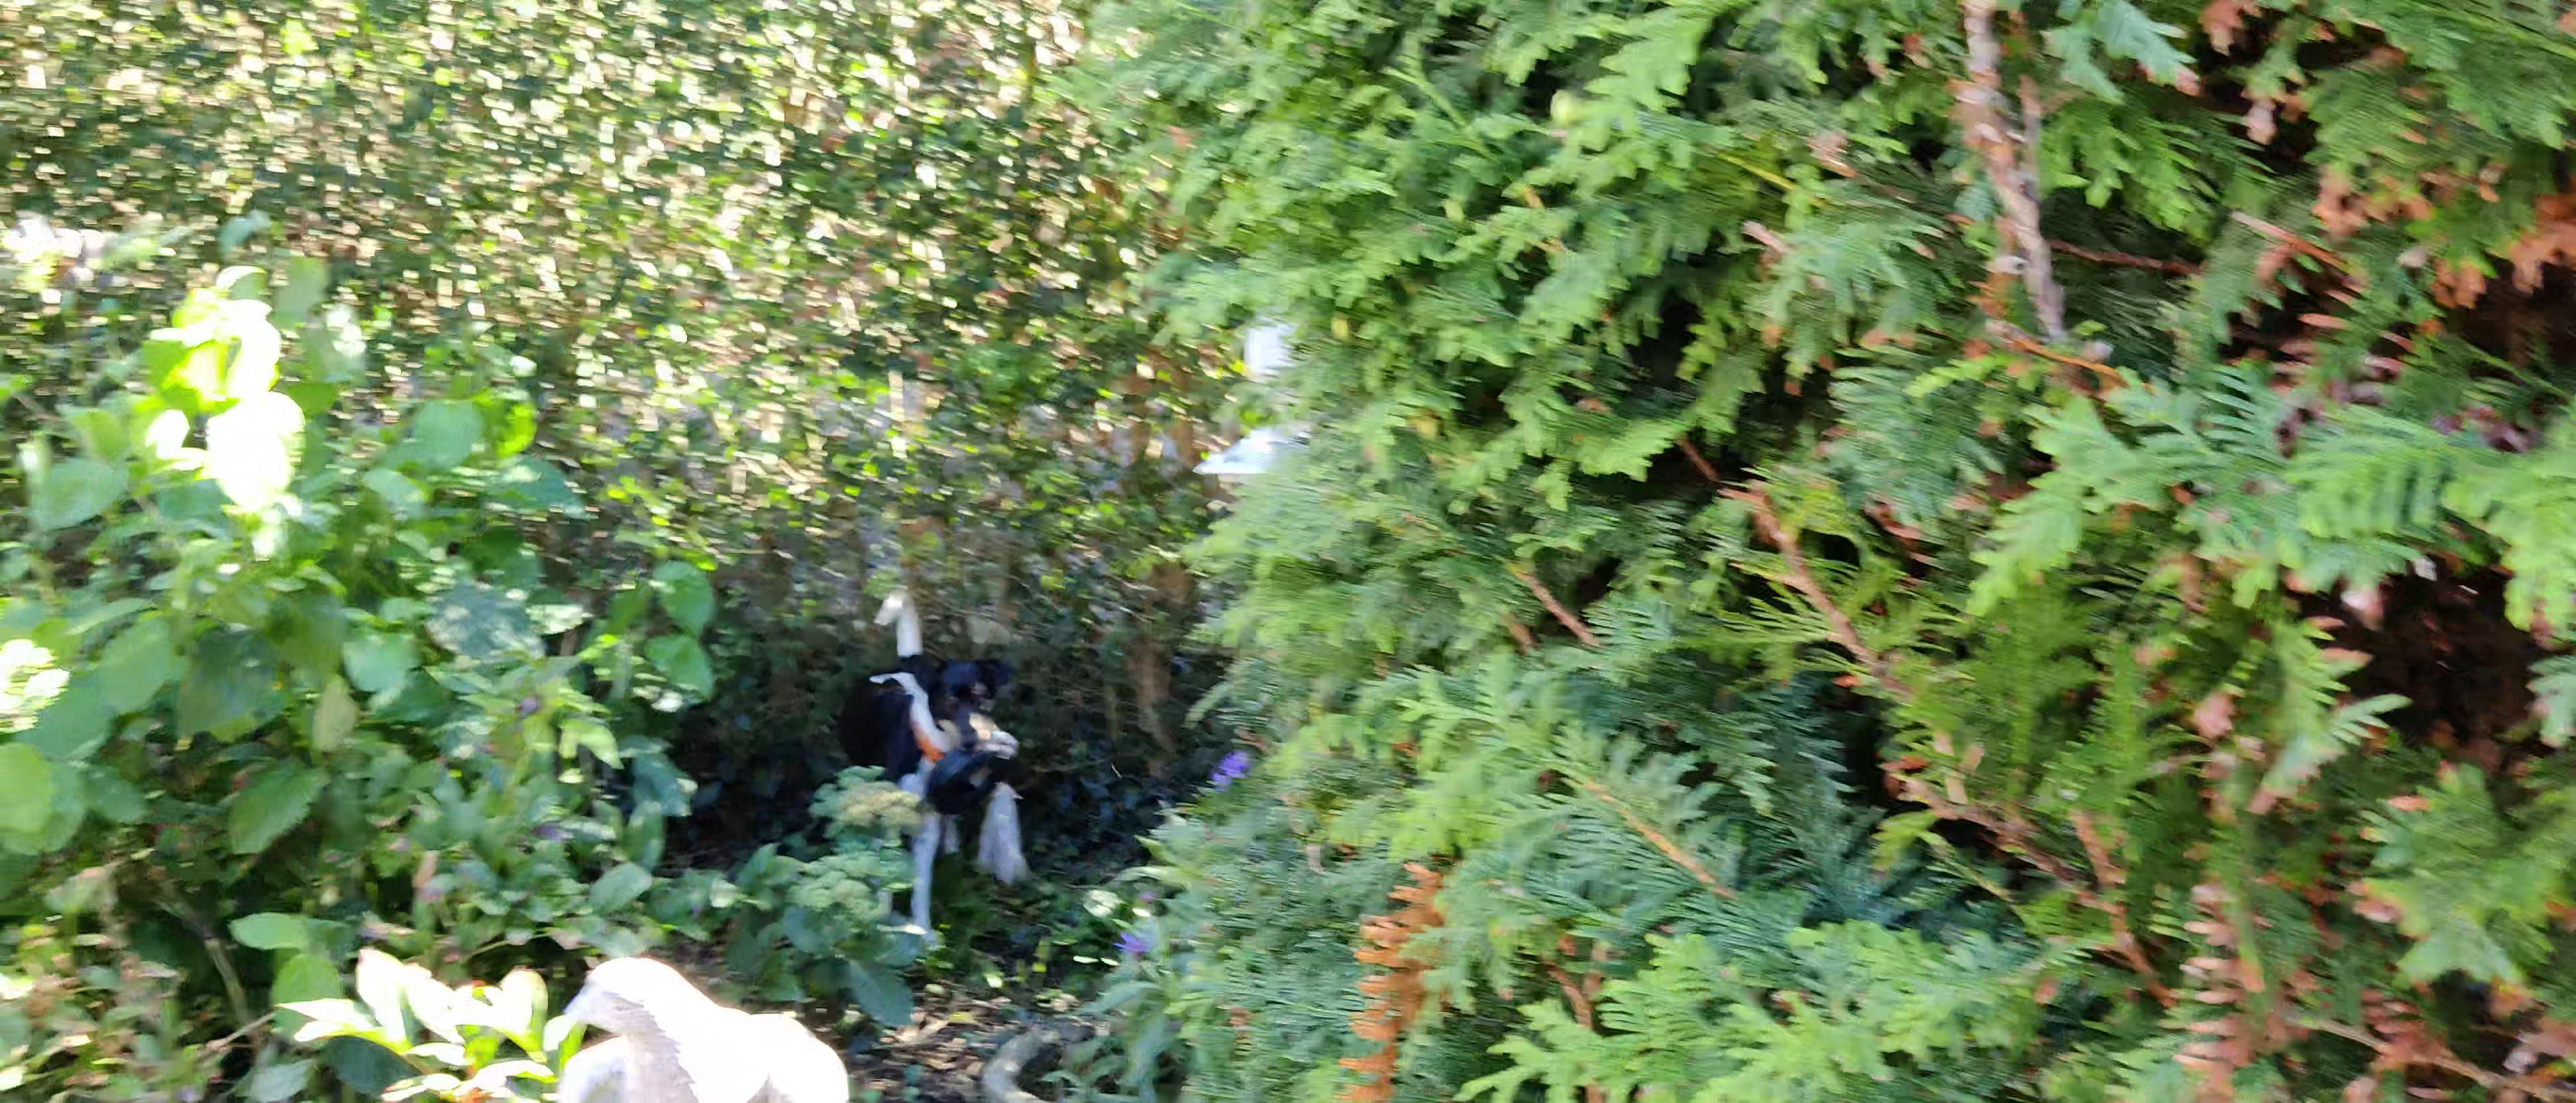Dog: (828, 577, 1032, 952)
